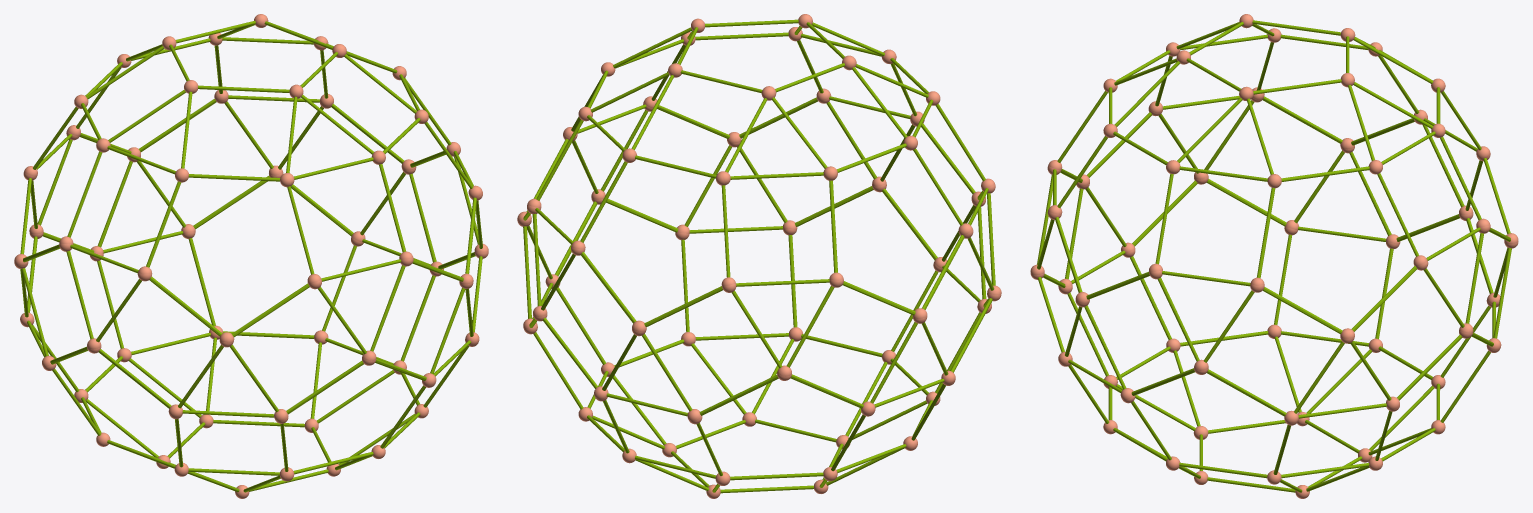
The model's file is rhombicosidodecahedron.glb.
The picture shows the model from 3 angles, left to right: view 1: azimuth 30°, elevation 25°; view 2: azimuth 150°, elevation 25°; view 3: azimuth 270°, elevation 25°; orthographic projection. The views are drawn at different scales.
Bounding box in the file's own units: 8.13 × 7.93 × 8.53.
